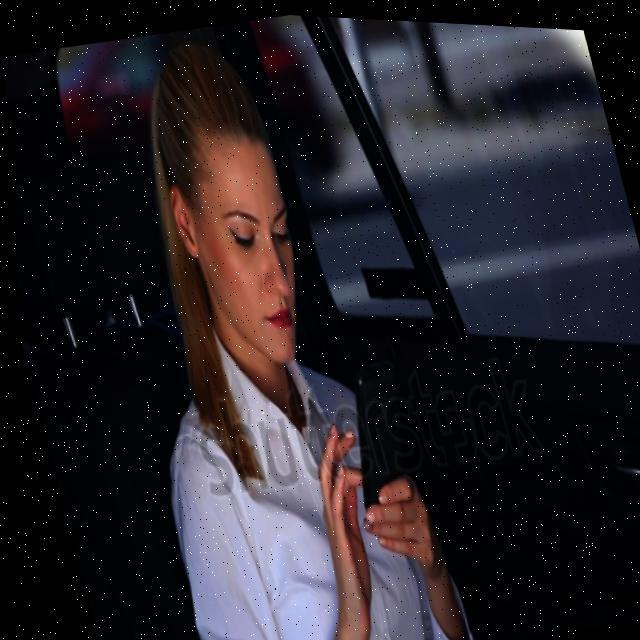PhoneCall: (322, 352, 426, 524)
